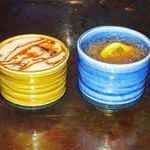cups: (74, 24, 150, 115), (1, 30, 71, 109)
